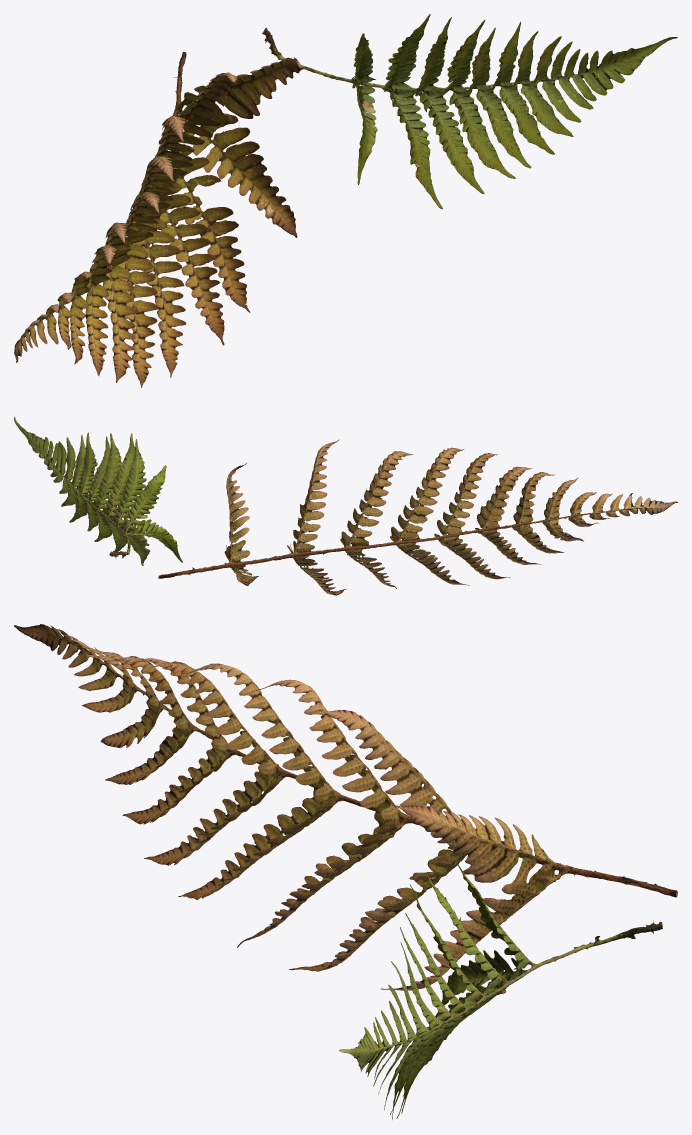
The model's file is fern-touch.glb.
The picture shows the model from 3 angles, top to bottom: view 1: azimuth 30°, elevation 25°; view 2: azimuth 150°, elevation 25°; view 3: azimuth 270°, elevation 25°; orthographic projection. The views are drawn at different scales.
Visible parts, largest first — view 1: Object_6, Object_15; view 2: Object_6, Object_15; view 3: Object_6, Object_15.
Boxes of the visible parts, <box> form: Object_6: <box>14,52,302,387</box>; Object_15: <box>262,14,677,209</box>; Object_6: <box>158,439,677,595</box>; Object_15: <box>14,416,182,565</box>; Object_6: <box>14,624,677,990</box>; Object_15: <box>339,862,662,1119</box>.
Bounding box in the file's own units: 1 × 0.2698 × 0.6133.
2 materials, 2 textured.
